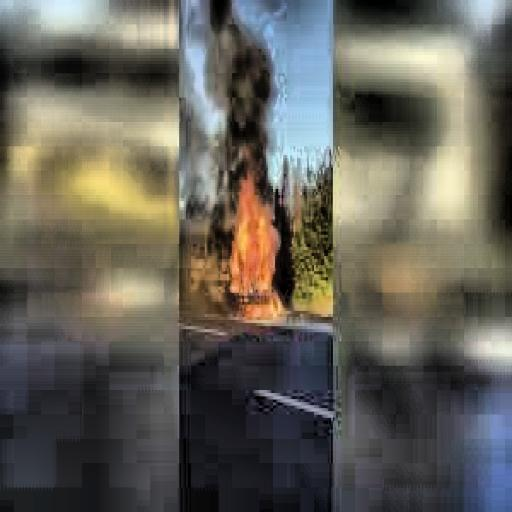fire: (218, 168, 292, 323)
